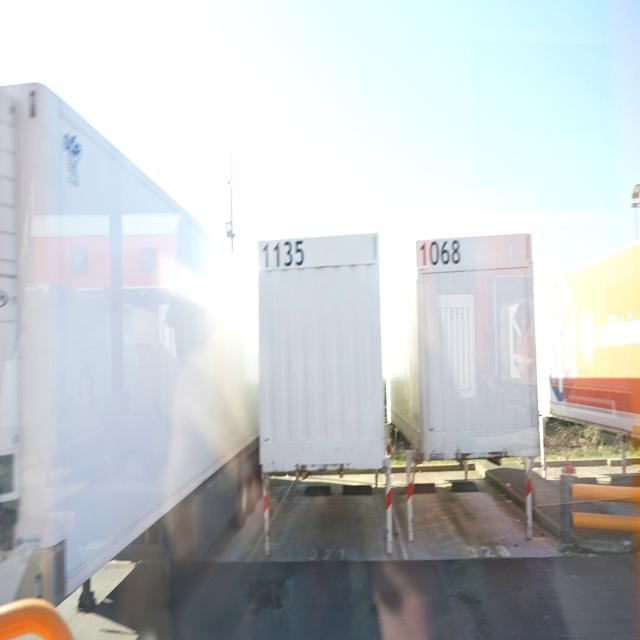Code: (259, 233, 308, 273), (415, 235, 466, 272)
